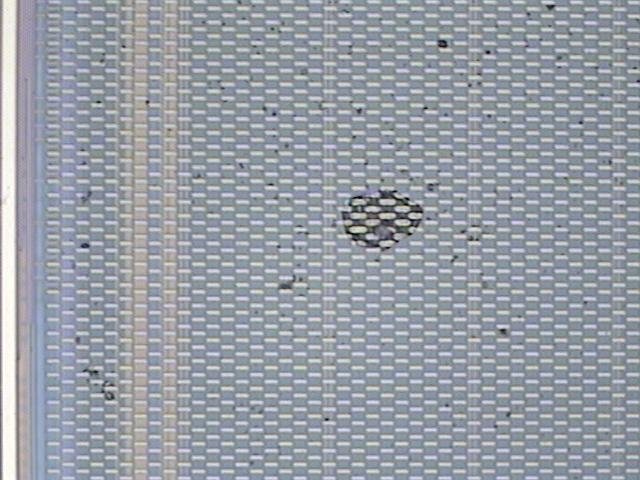PO CONTAMINATION: (69, 1, 640, 433)
